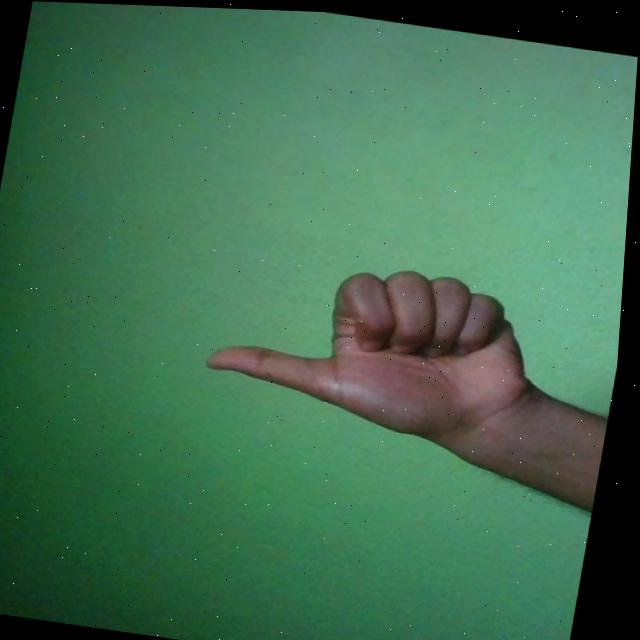Good Job: (203, 240, 557, 446)
